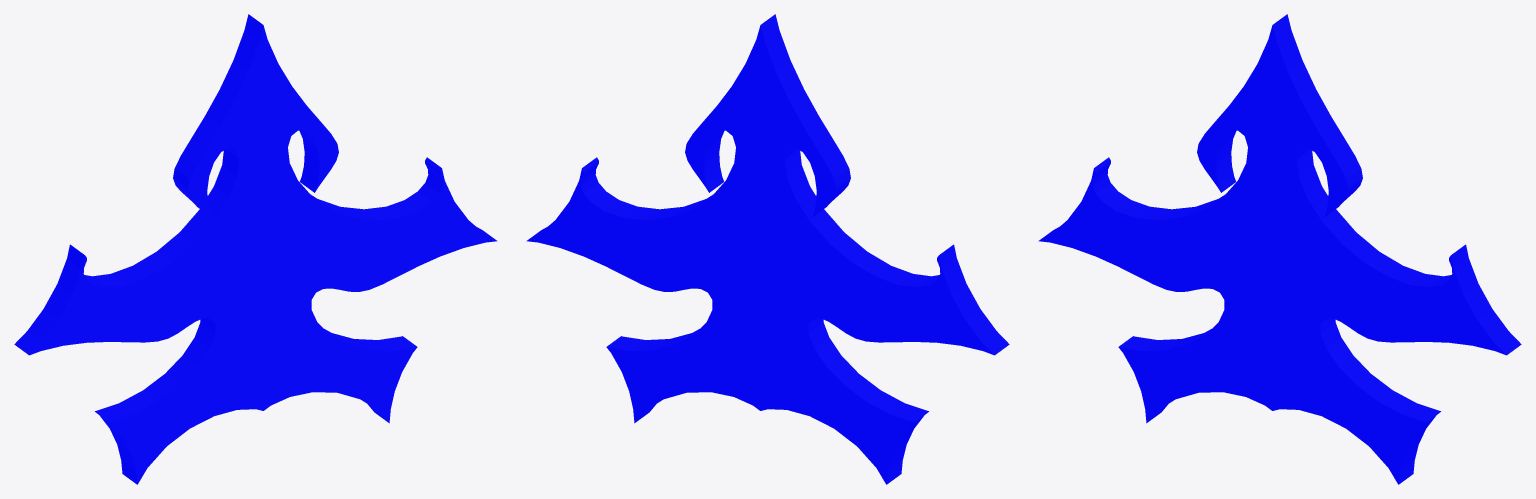
3 renders of one model, left to right at view 1: azimuth 30°, elevation 25°; view 2: azimuth 150°, elevation 25°; view 3: azimuth 330°, elevation 25°, orthographic.
Size of the model in its own units: 0.8983 by 0.7865 by 0.05.
